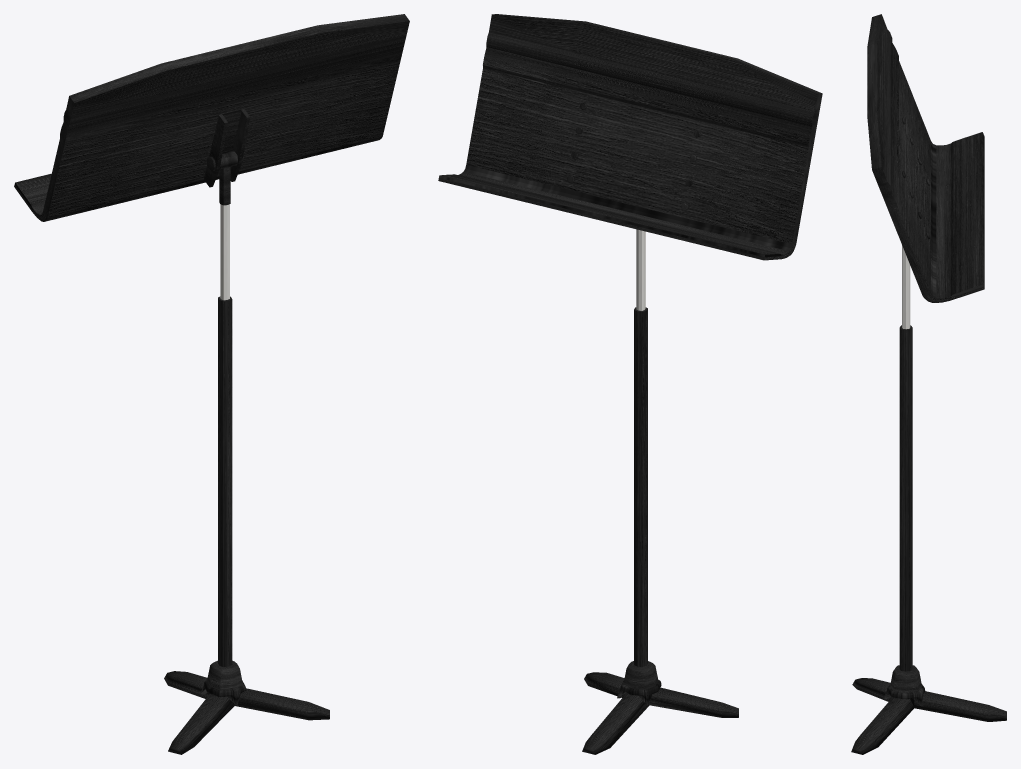
The model's file is MusicStand.fbx.
The picture shows the model from 3 angles, left to right: view 1: azimuth 30°, elevation 25°; view 2: azimuth 150°, elevation 25°; view 3: azimuth 270°, elevation 25°; orthographic projection. The views are drawn at different scales.
Parts seen in each view (by area): view 1: Cube.002, Cube, Cube.007, Cube.005, Cube.003, Cube.001, Cube.004; view 2: Cube.002, Cube, Cube.007, Cube.003, Cube.001; view 3: Cube.002, Cube, Cube.007, Cube.003, Cube.001.
Part boxes in pixels (x1,y1,x2,y2): Cube.002: (14, 14, 409, 221); Cube: (218, 296, 232, 666); Cube.007: (164, 671, 329, 754); Cube.005: (203, 109, 250, 187); Cube.003: (200, 660, 246, 705); Cube.001: (220, 204, 229, 300); Cube.004: (207, 151, 243, 205); Cube.002: (438, 14, 822, 260); Cube: (634, 307, 647, 667); Cube.007: (582, 672, 738, 754); Cube.003: (617, 661, 661, 705); Cube.001: (636, 229, 645, 310); Cube.002: (867, 14, 984, 302); Cube: (899, 325, 912, 671); Cube.007: (851, 678, 1006, 754); Cube.003: (883, 665, 925, 706); Cube.001: (902, 245, 910, 329).
Bounding box in the file's own units: 3672 × 7149 × 1582.
2 materials, 2 textured.
